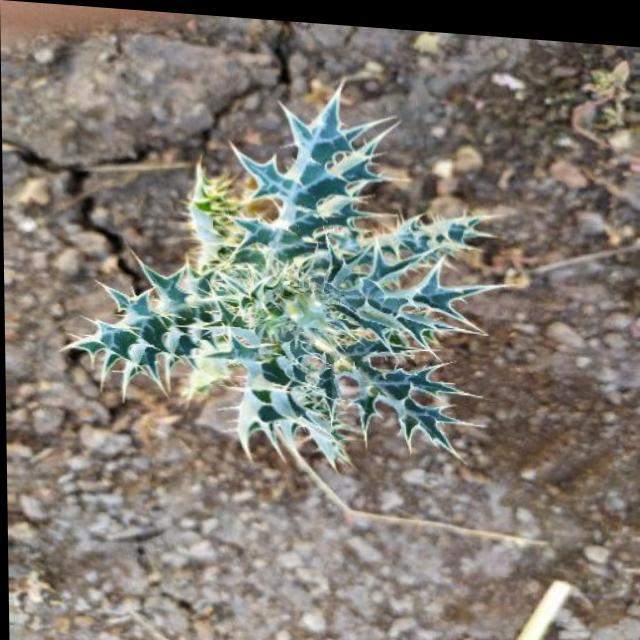weed: (68, 64, 488, 474)
